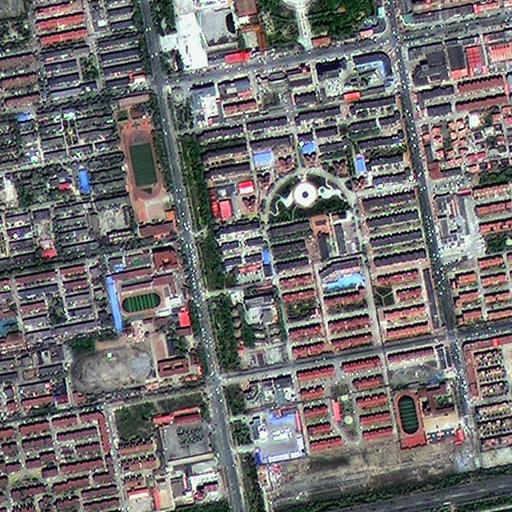school: (67, 310, 219, 411), (112, 88, 179, 240), (104, 241, 194, 319), (391, 378, 466, 452)
